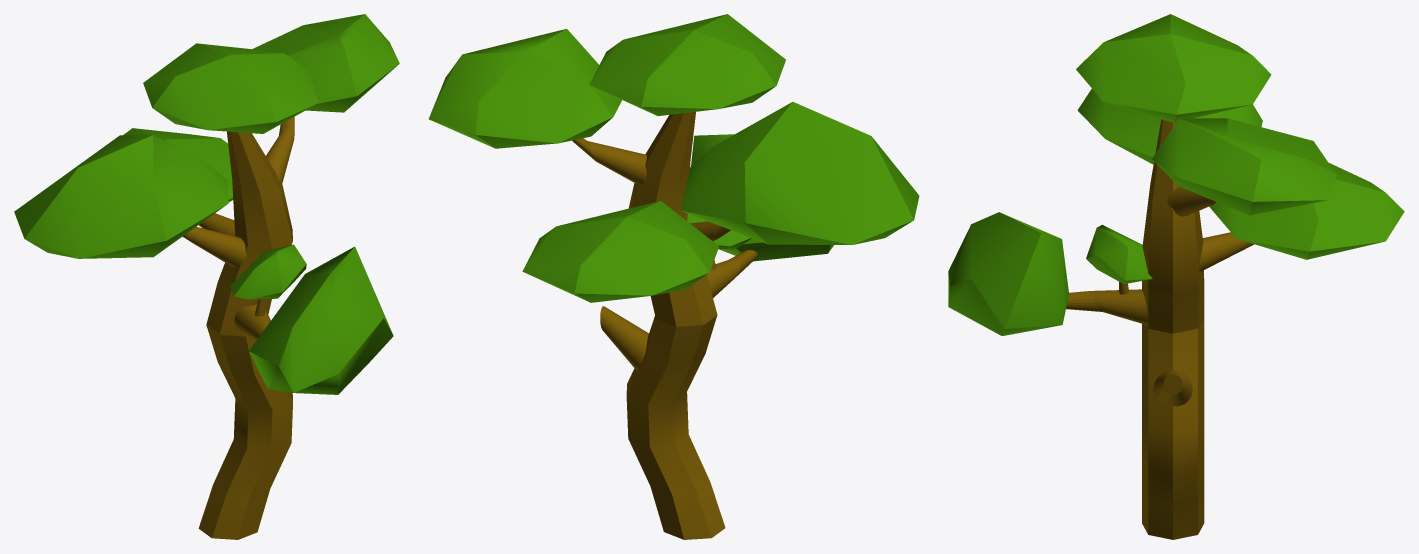
File: LowTreeFroBribri.fbx
The picture shows the model from 3 angles, left to right: view 1: azimuth 30°, elevation 25°; view 2: azimuth 150°, elevation 25°; view 3: azimuth 270°, elevation 25°; orthographic projection. The views are drawn at different scales.
Visible parts, largest first — view 1: pCylinder10; view 2: pCylinder10; view 3: pCylinder10.
Boxes of the visible parts, x1=… form: pCylinder10: x1=14, y1=14, x2=399, y2=539; pCylinder10: x1=428, y1=14, x2=919, y2=539; pCylinder10: x1=948, y1=14, x2=1404, y2=539.
Bounding box in the file's own units: 15.36 × 17.09 × 14.34.
